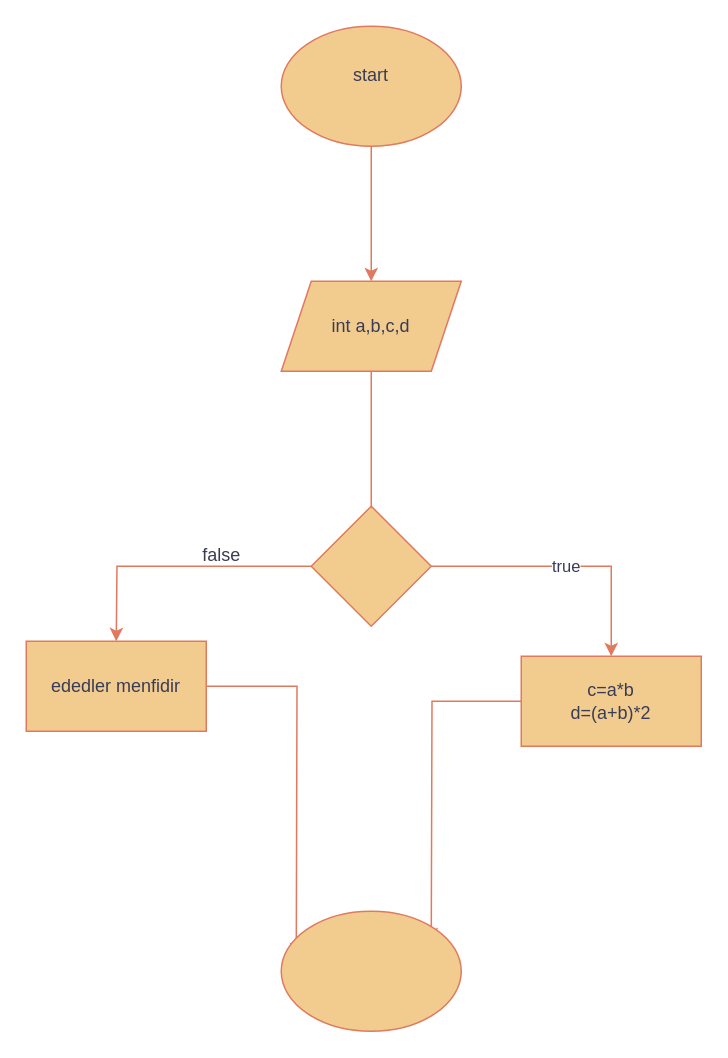
Image size: 728x1058. Some labels were removed from this diagram. Here are the shapes that lost their labels. From the top down, the centre of each, then its label:
At (x=370, y=565): "a>0&&b>0".
At (x=370, y=970): "end".
